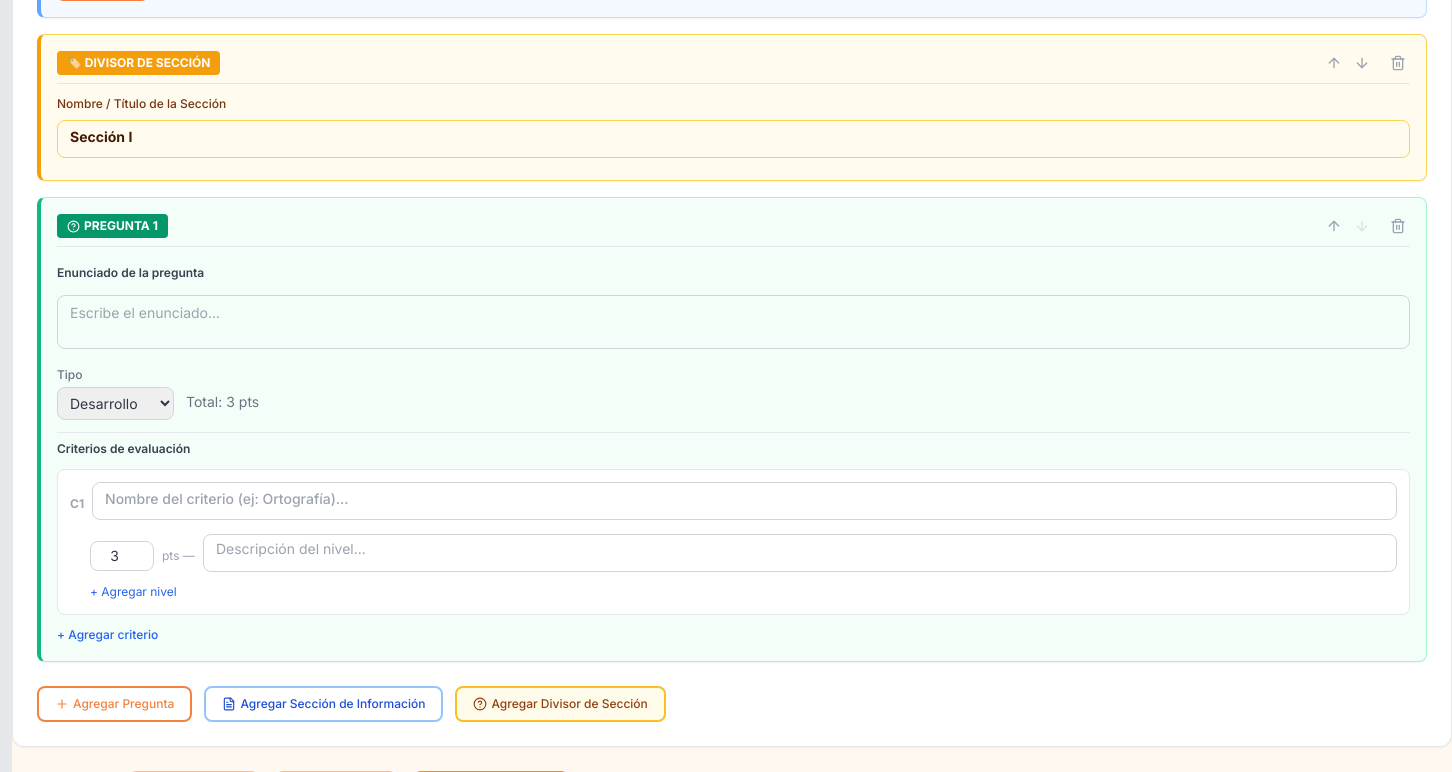
Test: NuevaEvaluacionPage (Tiza) › cambia el tipo de pregunta a written
(page scrolled)
# First switch to multiple_choice
Select "Alternativas" in the dropdown named "Tipo de pregunta 1" at [116, 404], box [57,387,174,420]
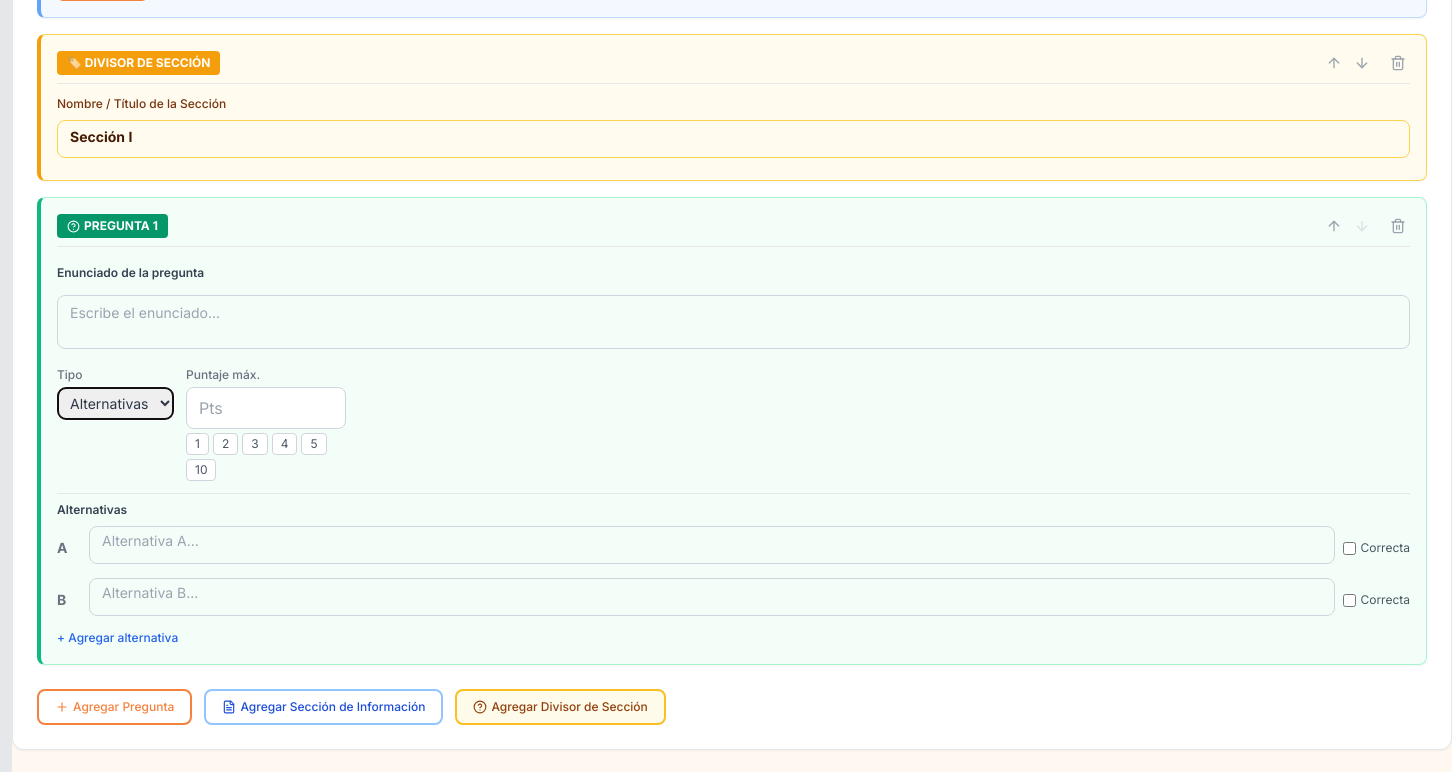
Check: the text "Alternativas" is shown, box [57,502,127,518]
# Switch back to written
Select "Desarrollo" in the dropdown named "Tipo de pregunta 1" at [116, 404], box [57,387,174,420]
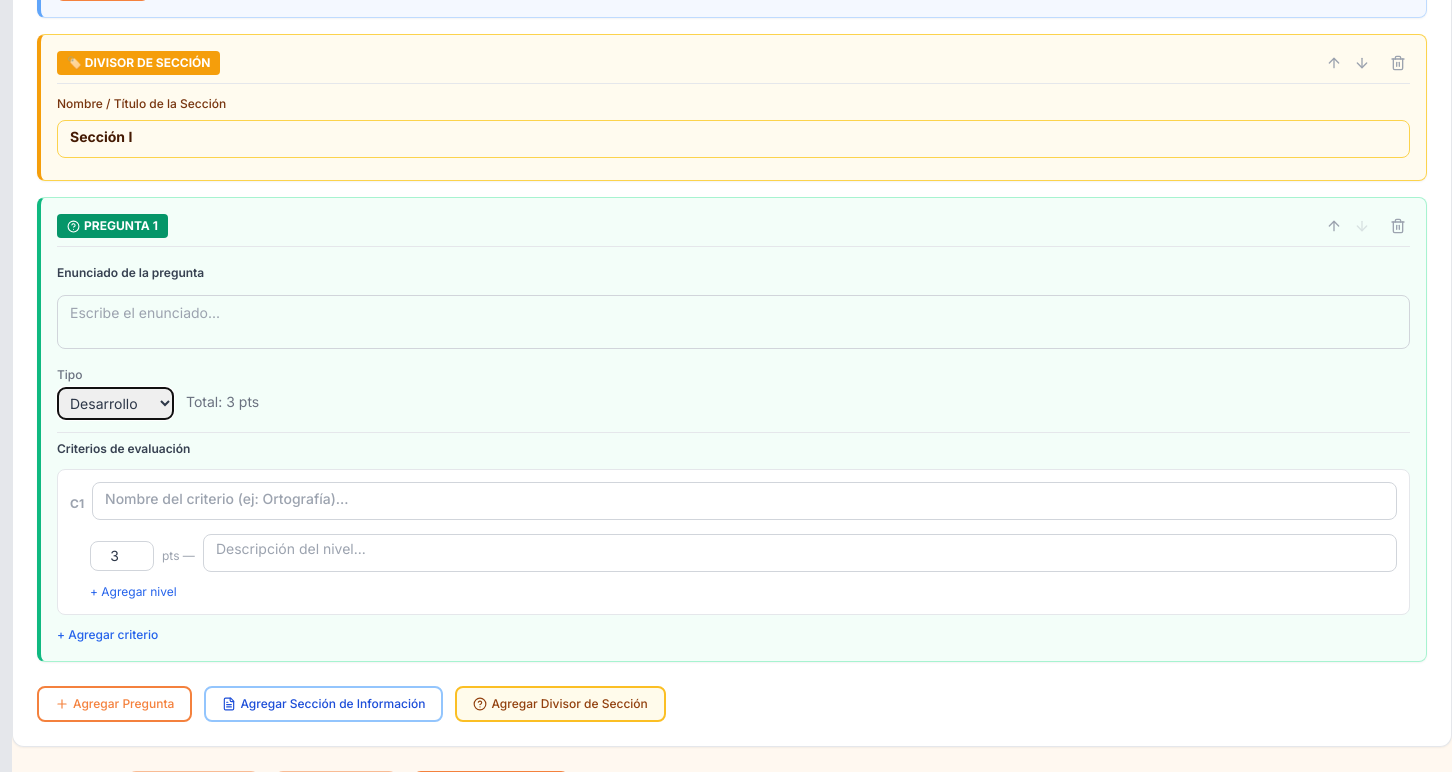
Check: the text "Alternativas" is gone
